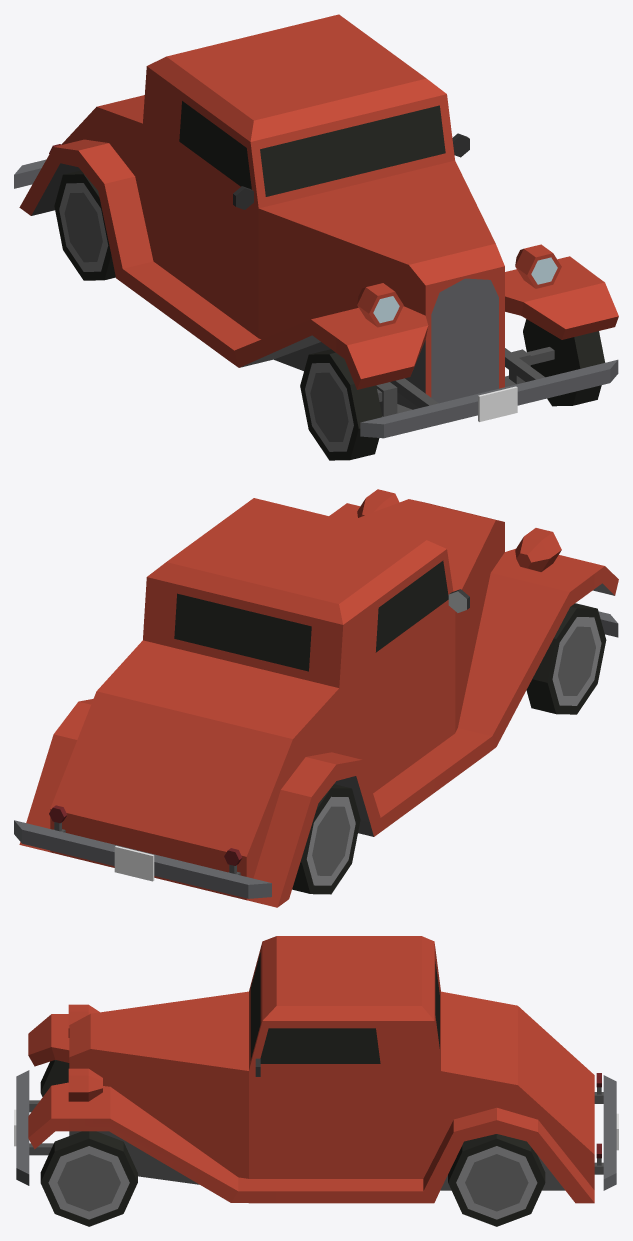
The model's file is Veh_Retro_Car_02_Red.glb.
3 views of the same model, one above another, from view 1: azimuth 30°, elevation 25°; view 2: azimuth 150°, elevation 25°; view 3: azimuth 270°, elevation 25° (orthographic). The views are drawn at different scales.
Parts seen in each view (by area): view 1: Retro_Car_02_Red, Wheel_FR, Wheel_RR, Wheel_FL; view 2: Retro_Car_02_Red, Wheel_FR, Wheel_RR; view 3: Retro_Car_02_Red, Wheel_FL, Wheel_RL, Wheel_FR.
Part boxes in pixels (x1,y1,x2,y2): Retro_Car_02_Red: (14, 14, 618, 438); Wheel_FR: (300, 349, 382, 460); Wheel_RR: (54, 170, 115, 280); Wheel_FL: (523, 319, 604, 406); Retro_Car_02_Red: (14, 489, 618, 907); Wheel_FR: (526, 603, 606, 714); Wheel_RR: (292, 784, 360, 894); Retro_Car_02_Red: (14, 936, 618, 1203); Wheel_FL: (40, 1131, 137, 1226); Wheel_RL: (448, 1134, 545, 1226); Wheel_FR: (40, 1060, 69, 1096).
Bounding box in the file's own units: 0.9825 × 0.8995 × 2.4.
1 material, 1 textured.
